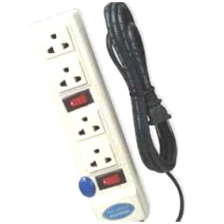three_eye_plug: (18, 5, 152, 223)
